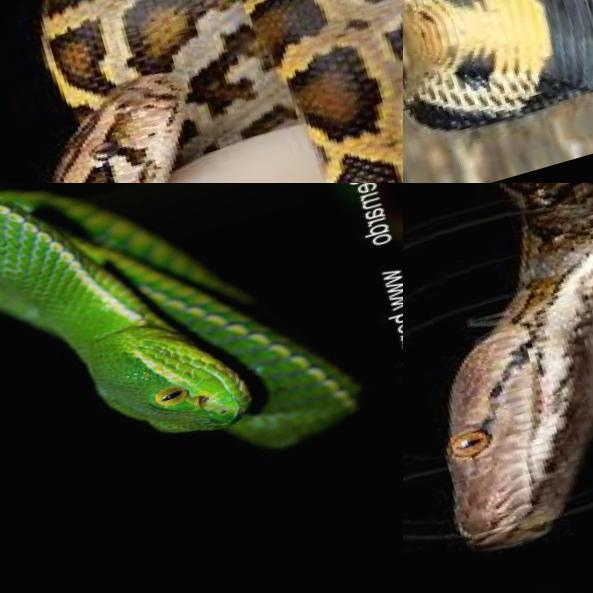1: (403, 0, 593, 181)
3: (403, 183, 593, 568)
4: (0, 183, 403, 526)
snake: (0, 0, 403, 183)
